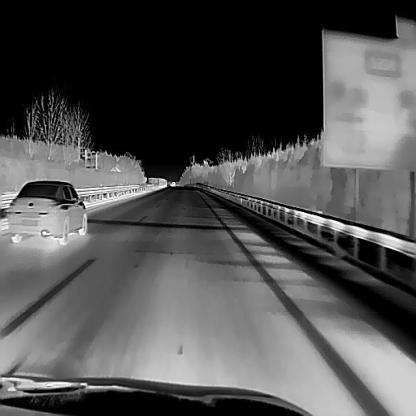car: (5, 178, 86, 244)
